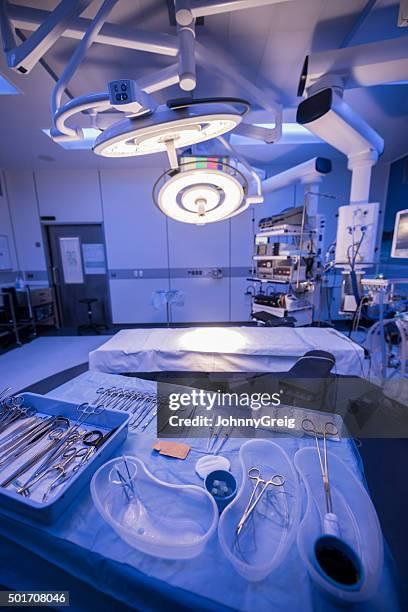tools_table: (0, 369, 402, 612)
